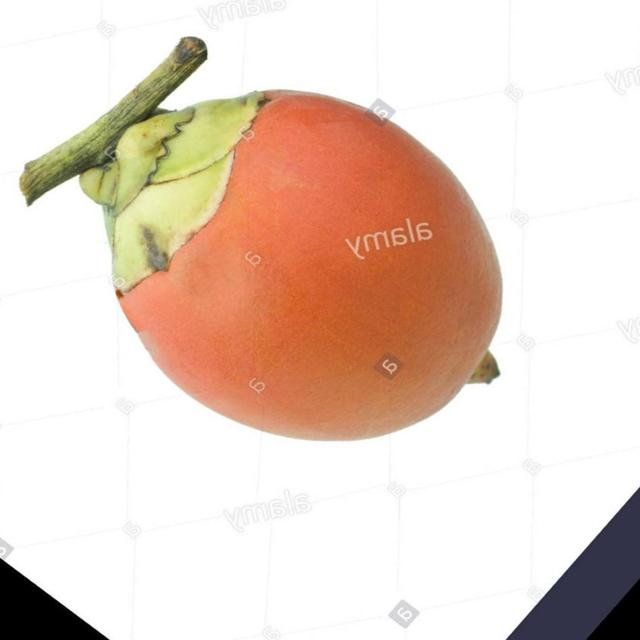good: (78, 91, 504, 444)
